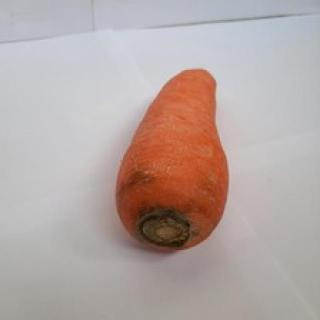carrot: (114, 67, 230, 256)
